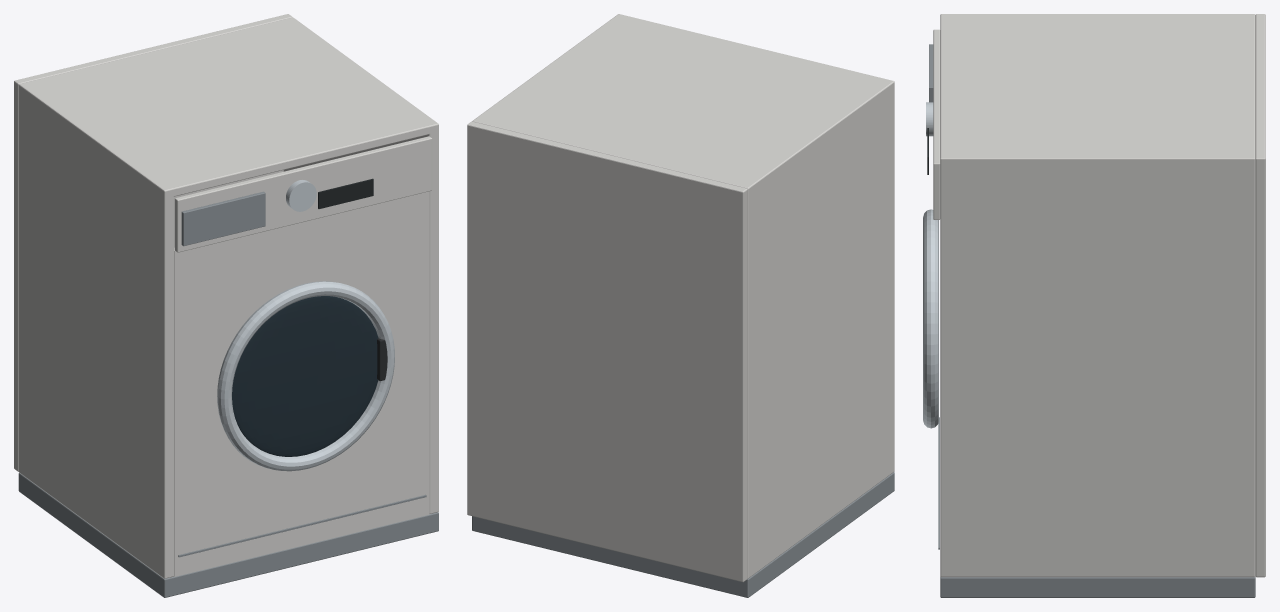
The model's file is washer-v1.glb.
The picture shows the model from 3 angles, left to right: view 1: azimuth 30°, elevation 25°; view 2: azimuth 150°, elevation 25°; view 3: azimuth 270°, elevation 25°; orthographic projection. The views are drawn at different scales.
Visible parts, largest first — view 1: side--1, front-frame, top, door-glass, control-fascia, base, door-ring, side-1, rear, detergent-drawer, display, service-trim (+1 smaller); view 2: rear, side--1, top, base; view 3: side-1, top, base, rear, door-ring, control-fascia.
Boxes of the visible parts, x1,y1,x2,y2 form: side--1: (18,92,173,578); front-frame: (174,191,429,576); top: (18,17,438,197); door-glass: (232,296,378,456); control-fascia: (174,136,432,252); base: (18,448,438,597); door-ring: (217,281,394,471); side-1: (283,124,438,513); rear: (14,14,292,471); detergent-drawer: (181,191,265,246); display: (318,178,373,208); service-trim: (178,494,426,557); rear: (467,121,747,581); side--1: (739,82,894,578); top: (472,14,894,195); base: (472,472,894,597); side-1: (940,153,1255,577); top: (940,14,1255,166); base: (940,576,1255,597); rear: (1255,14,1265,577); door-ring: (923,209,938,428); control-fascia: (933,29,940,219).
Bounding box in the file's own units: 0.6 × 0.85 × 0.6.
